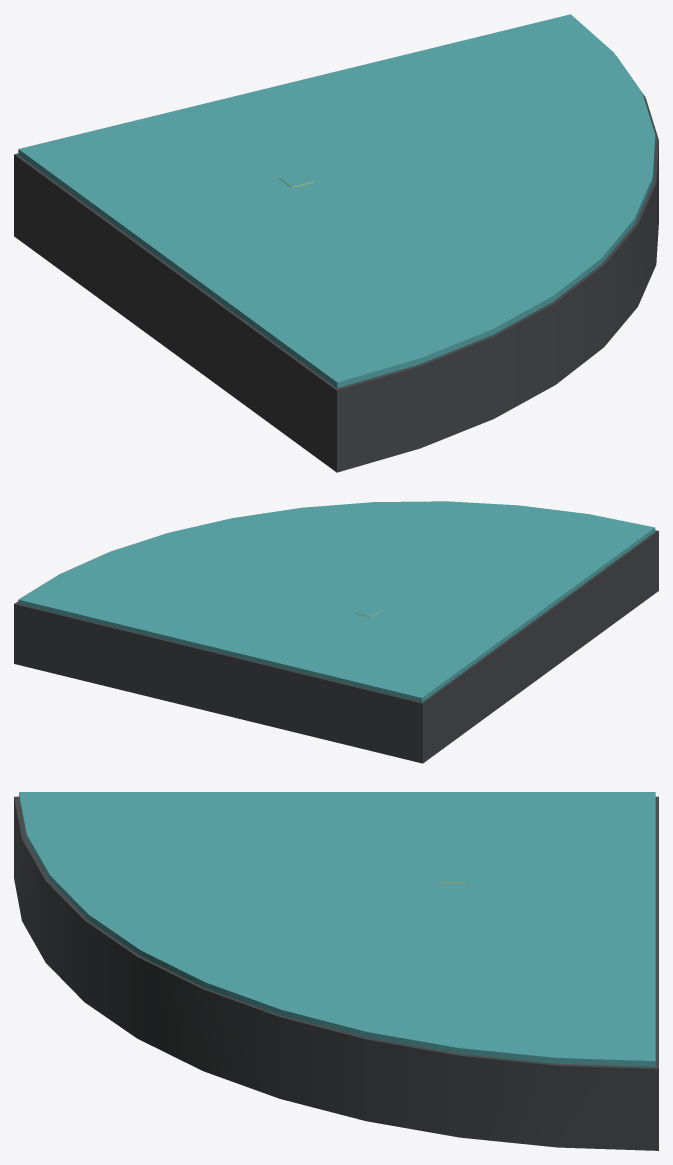
Rendered from tt_climb_mat_ring_corner.glb.
3 views of the same model, one above another, from view 1: azimuth 30°, elevation 25°; view 2: azimuth 150°, elevation 25°; view 3: azimuth 270°, elevation 25° (orthographic). The views are drawn at different scales.
Visible parts, largest first — view 1: Mat_Cover, Mat_Core; view 2: Mat_Cover, Mat_Core; view 3: Mat_Cover, Mat_Core.
Boxes of the visible parts, left/top/right/bottom form: Mat_Cover: left=18, top=14, right=655, bottom=388; Mat_Core: left=14, top=56, right=658, bottom=472; Mat_Cover: left=18, top=501, right=655, bottom=702; Mat_Core: left=14, top=530, right=658, bottom=763; Mat_Cover: left=19, top=792, right=655, bottom=1066; Mat_Core: left=14, top=796, right=658, bottom=1150.
Size of what is drawn, in the model's own units: 2 by 0.303 by 2.
